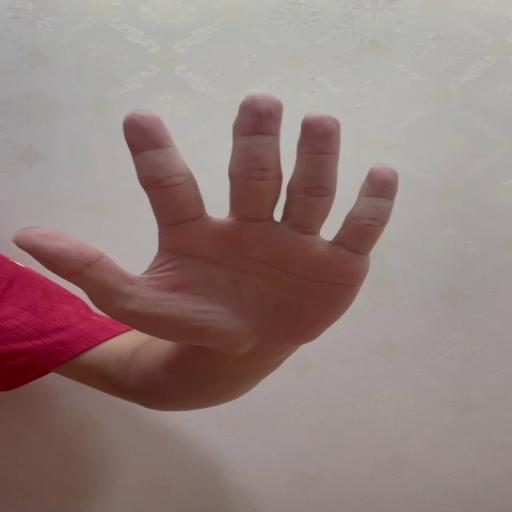open_palm: (11, 94, 401, 354)
